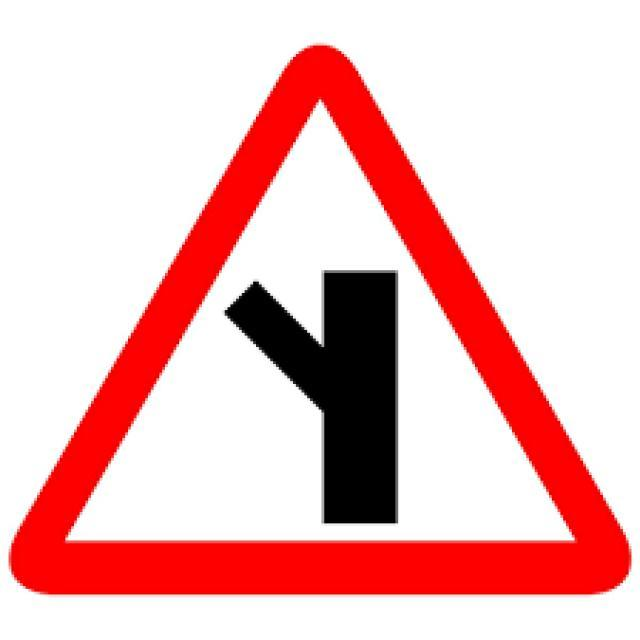y intersection: (18, 44, 616, 603)
